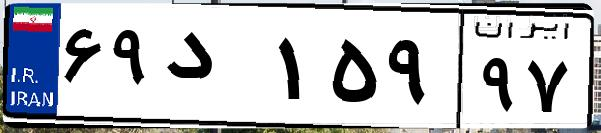1: (270, 28, 330, 110)
5: (330, 28, 385, 110)
6: (57, 26, 110, 100)
7: (525, 38, 570, 115)
9: (385, 28, 445, 110), (475, 38, 525, 113), (110, 28, 158, 98)
د: (158, 20, 270, 120)
